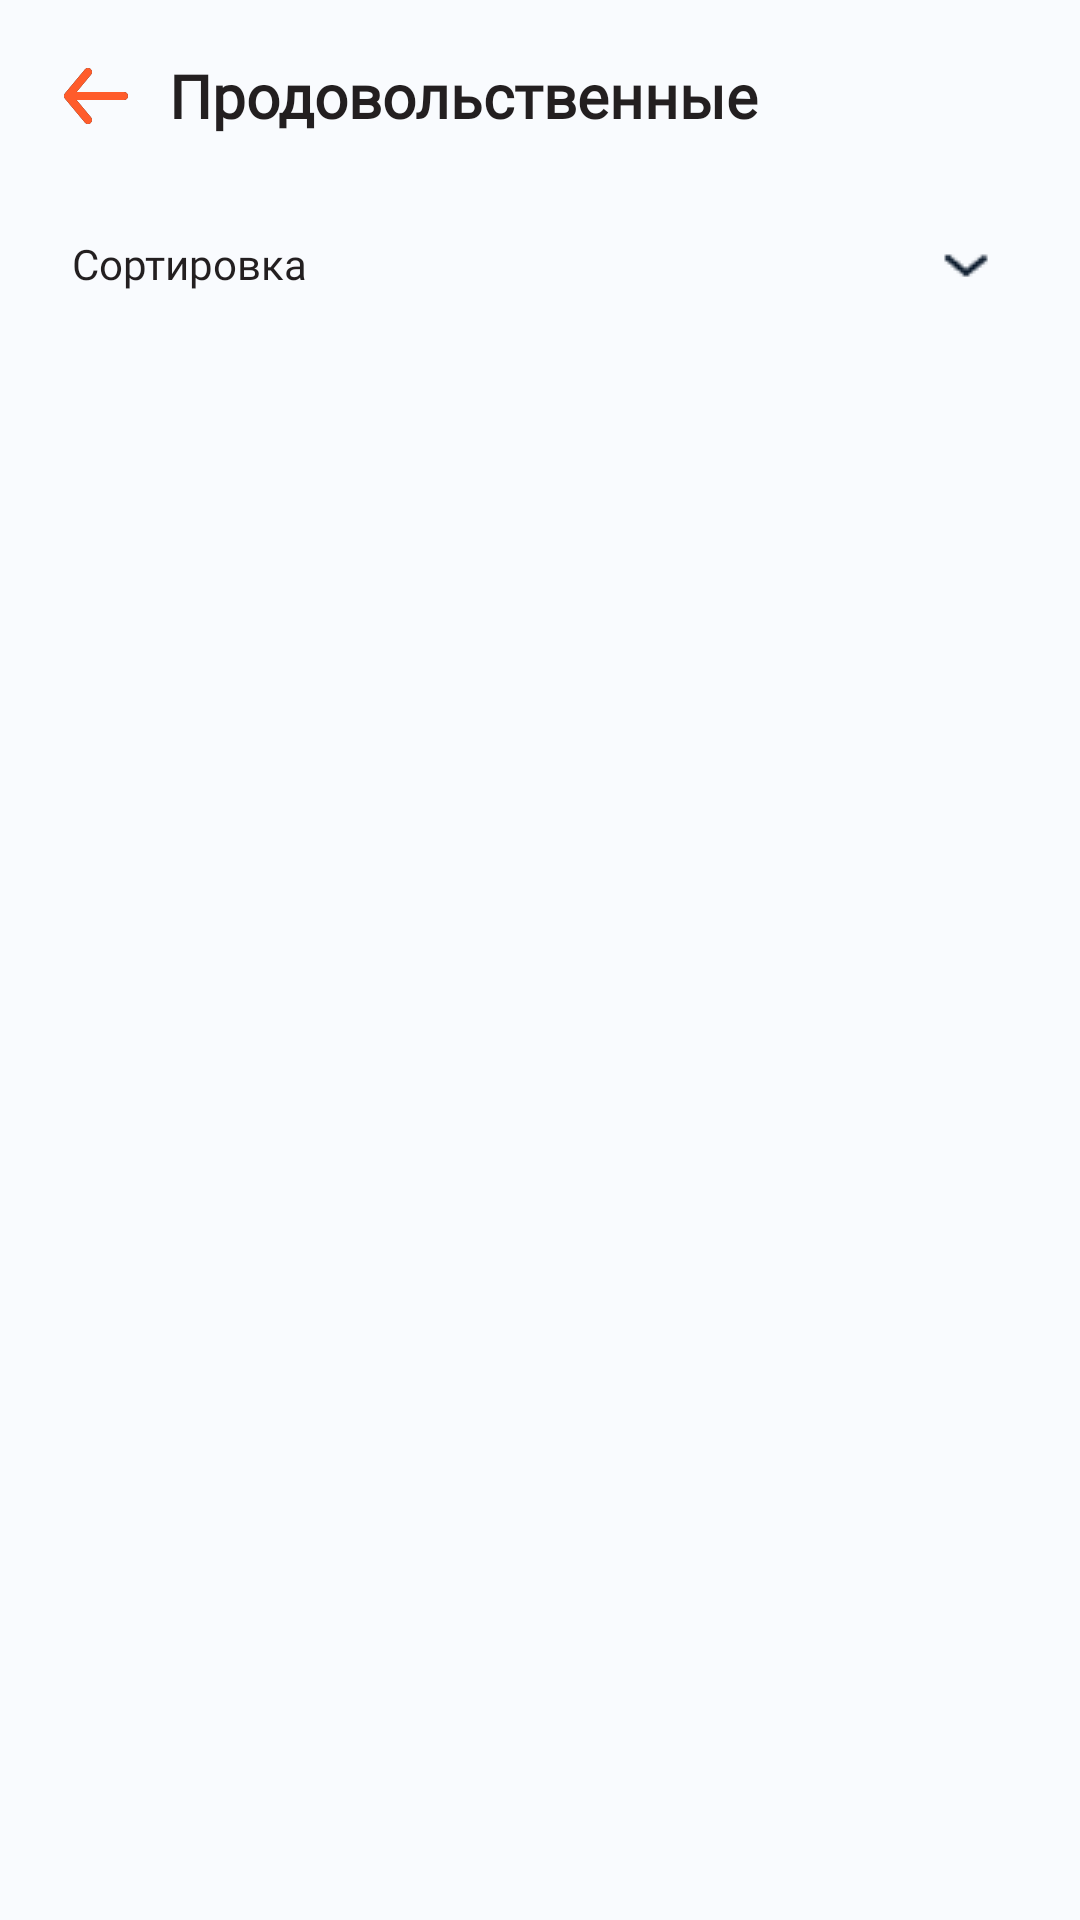

Named icons in this screenshot (1080 × 1920) and their bounding boxes, (x1, y1, x2, y2):
arrow left: (64, 68, 128, 124)
